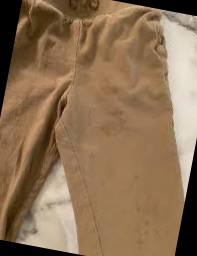oil: (87, 99, 127, 146), (126, 170, 143, 185)
